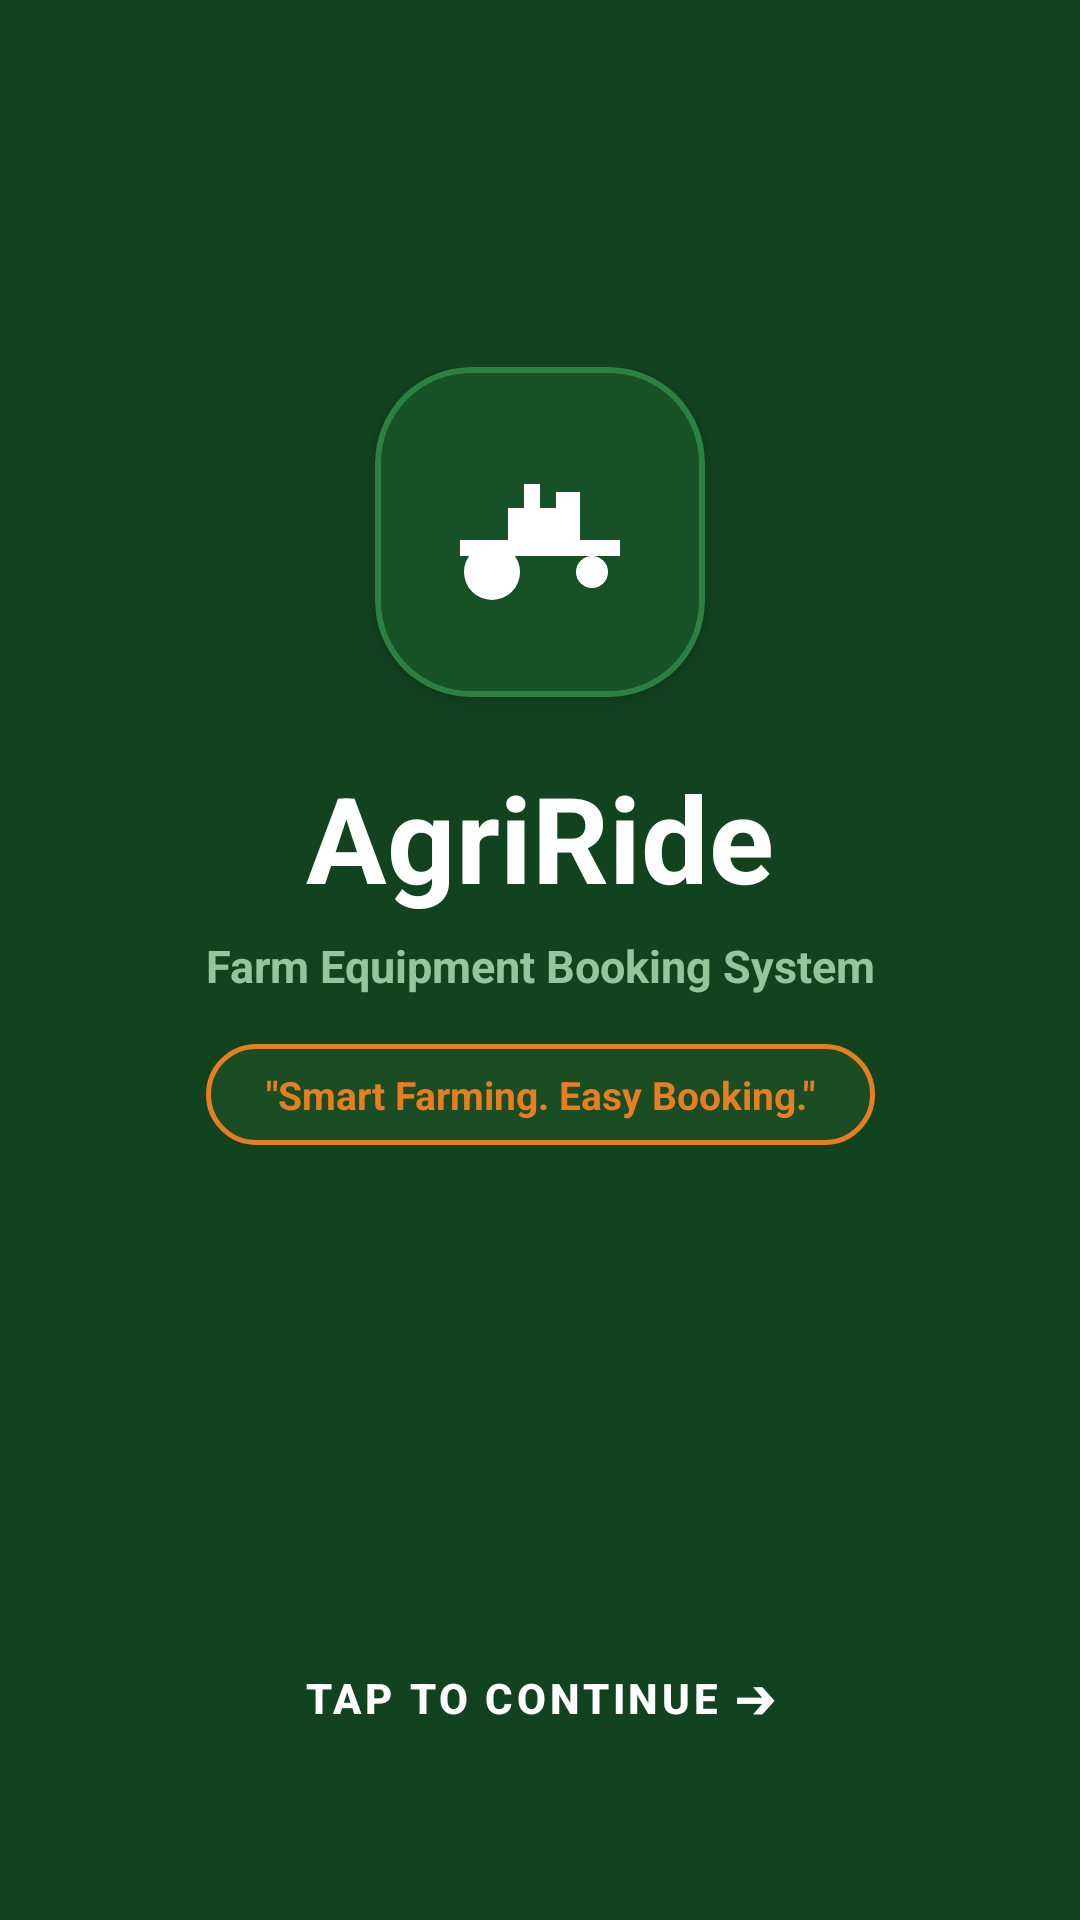

Screen size 1080w x 1920h. Icon name, then its center in pixels as (x,y):
tractor: (540,542)
